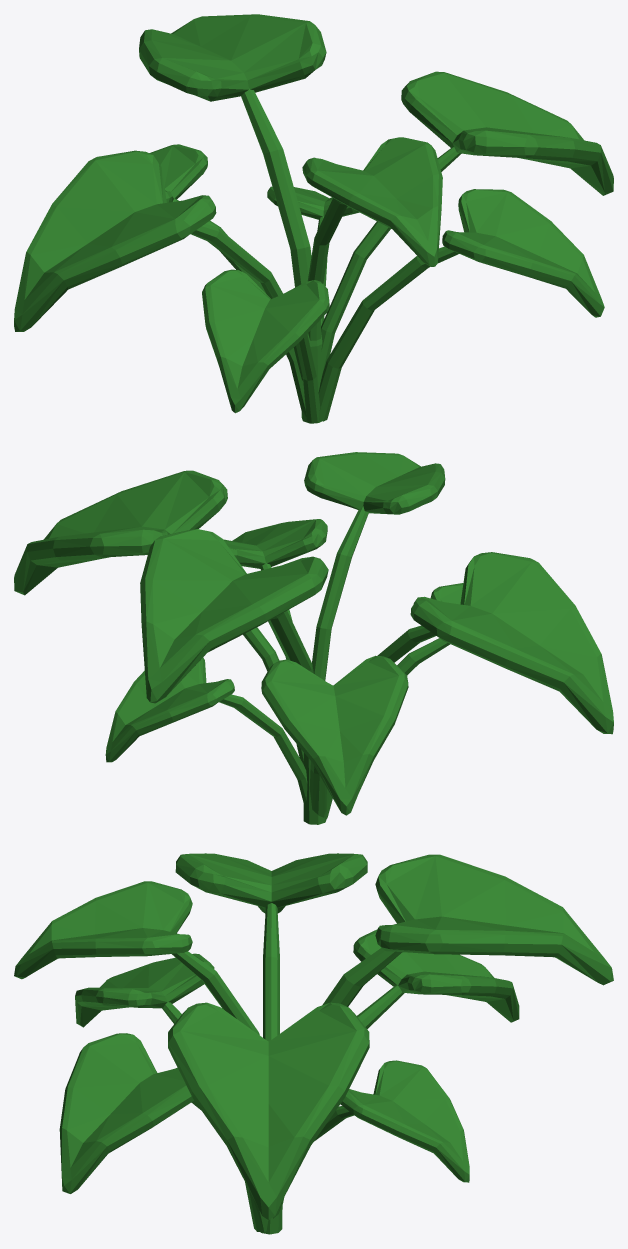
The model's file is Plant21.fbx.
The picture shows the model from 3 angles, top to bottom: view 1: azimuth 30°, elevation 25°; view 2: azimuth 150°, elevation 25°; view 3: azimuth 270°, elevation 25°; orthographic projection. The views are drawn at different scales.
Visible parts, largest first — view 1: Plant.033_Material.001_0; view 2: Plant.033_Material.001_0; view 3: Plant.033_Material.001_0.
Boxes of the visible parts, x1=… form: Plant.033_Material.001_0: x1=14, y1=14, x2=613, y2=423; Plant.033_Material.001_0: x1=14, y1=452, x2=613, y2=824; Plant.033_Material.001_0: x1=14, y1=853, x2=613, y2=1234.
Bounding box in the file's own units: 1246 × 638 × 1031.
